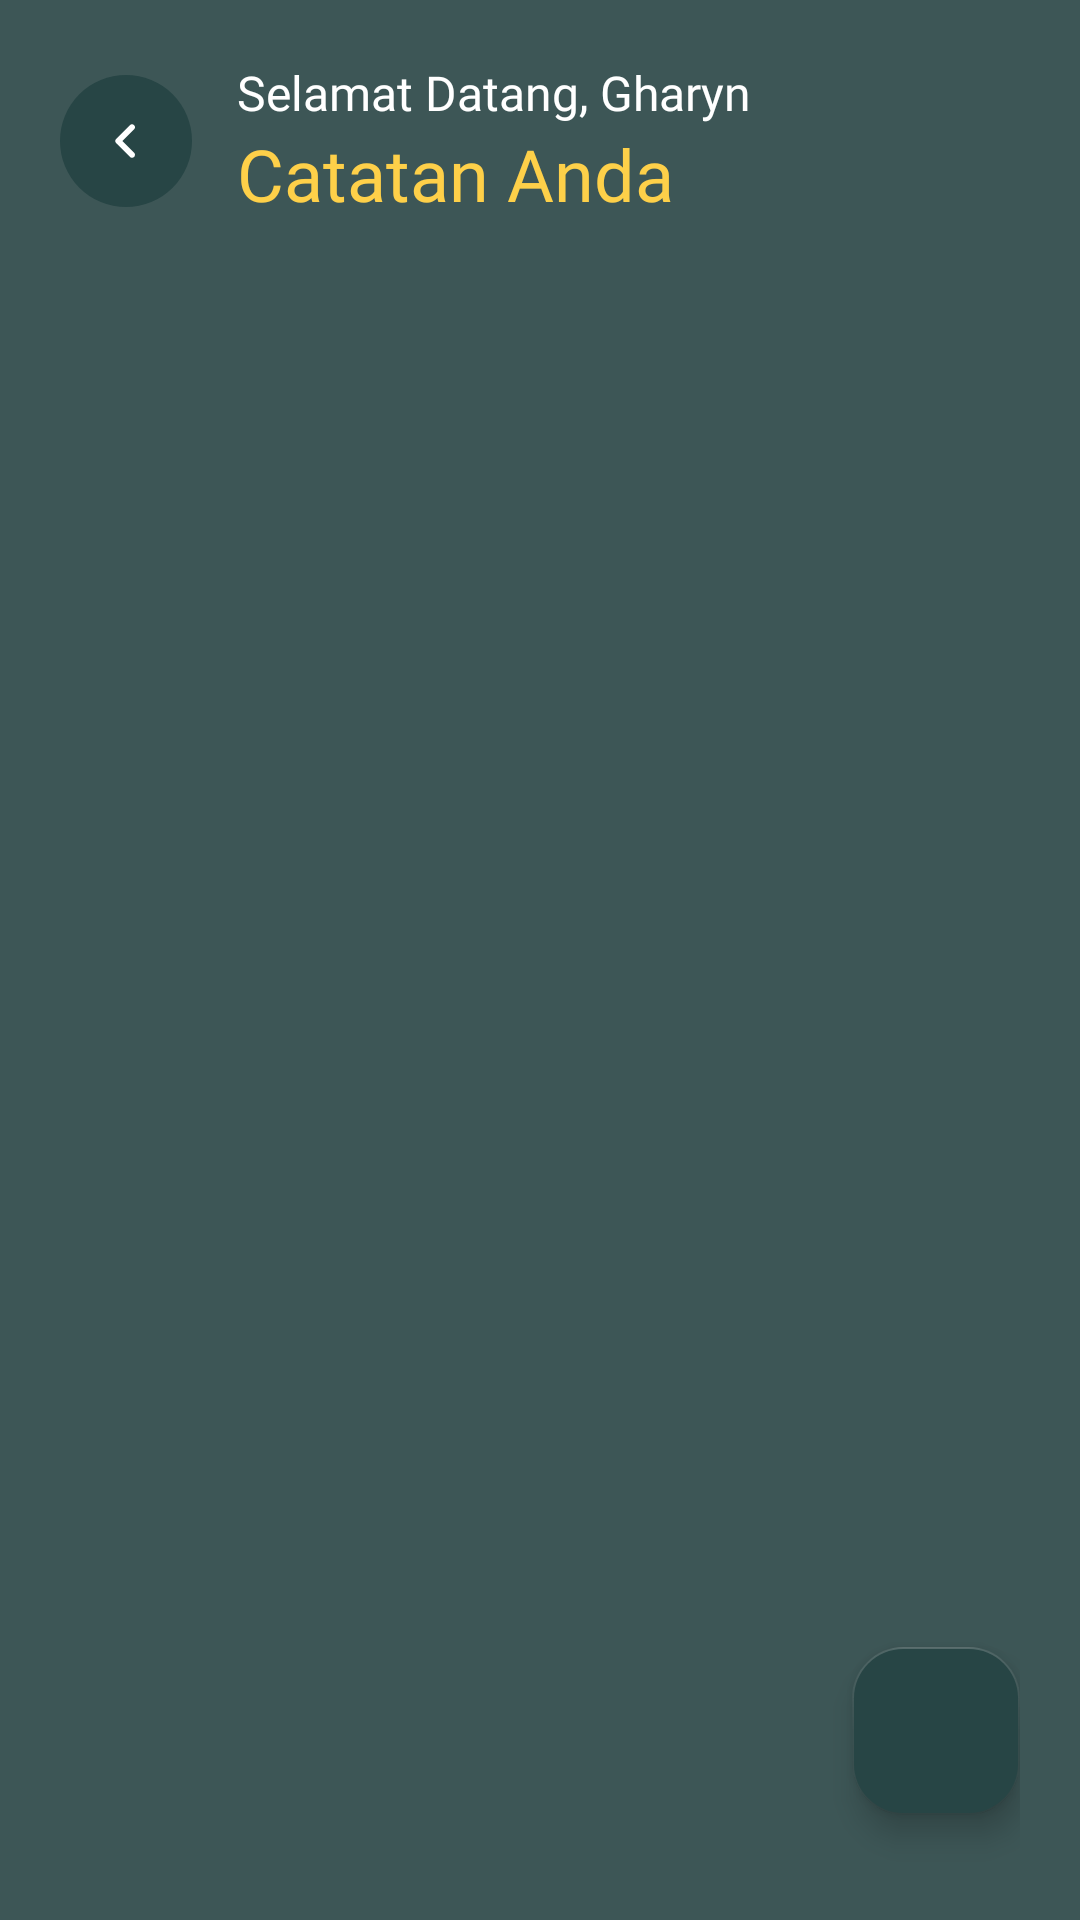

Where to tap for icons on this 1080 x 1920 app screen, as [x,y]:
rounda rrow left: [126,141]
